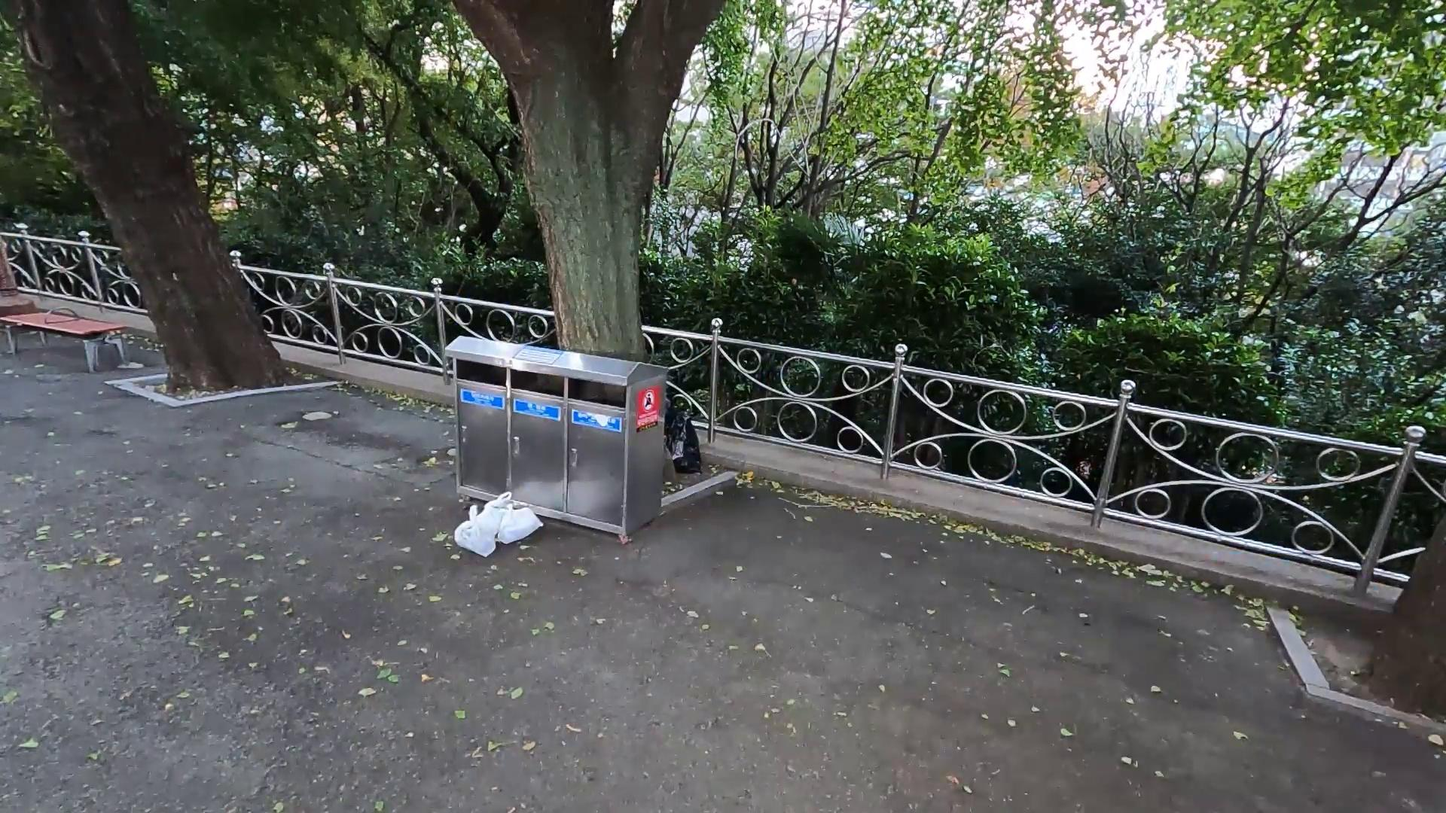trash: (665, 395, 703, 476), (453, 502, 499, 560), (496, 506, 545, 547), (481, 487, 527, 523)
